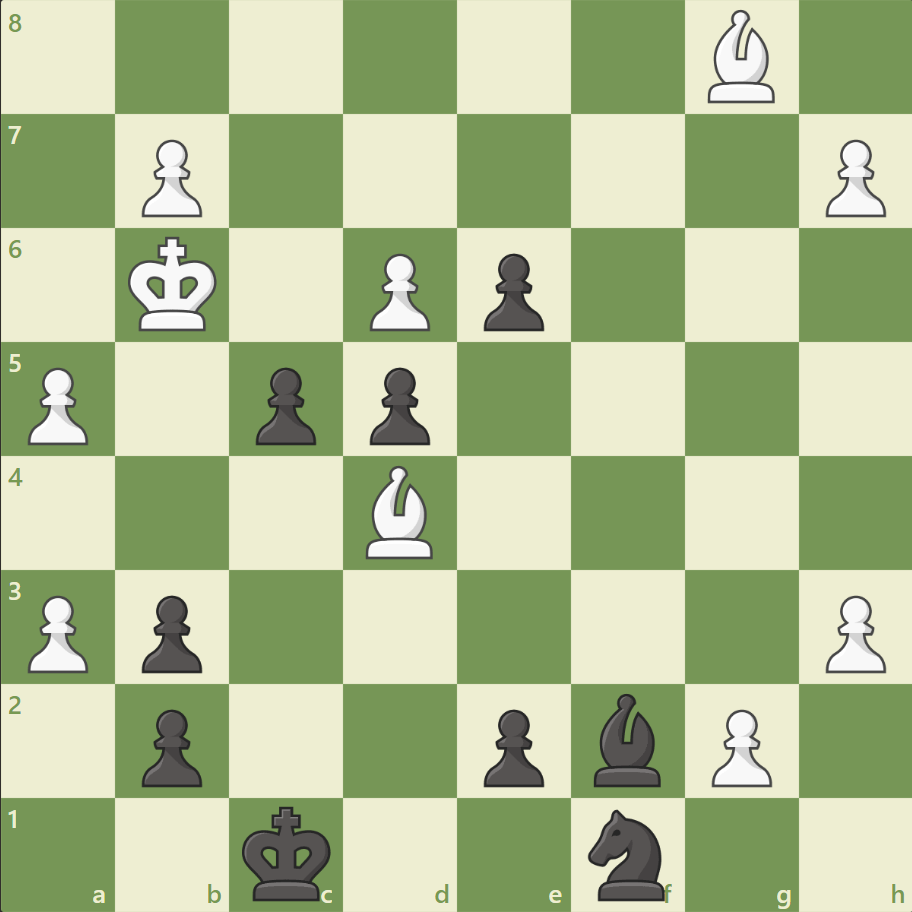B: (698, 6, 782, 109), (358, 460, 442, 563)
K: (124, 231, 224, 339)
P: (133, 132, 208, 223), (20, 359, 95, 450), (20, 586, 95, 677), (701, 700, 776, 791), (815, 132, 889, 223), (361, 246, 435, 337), (815, 586, 889, 677)
b: (585, 687, 669, 790)
k: (238, 798, 338, 906)
n: (579, 802, 676, 904)
p: (474, 246, 549, 337), (247, 359, 322, 450), (133, 586, 208, 677), (133, 700, 208, 791), (474, 700, 549, 791), (361, 359, 435, 450)
